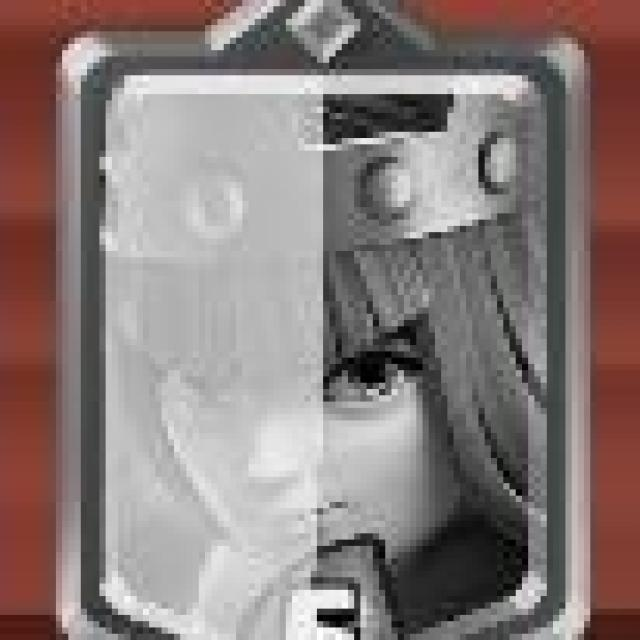Archer_Queen: (50, 0, 601, 640)
